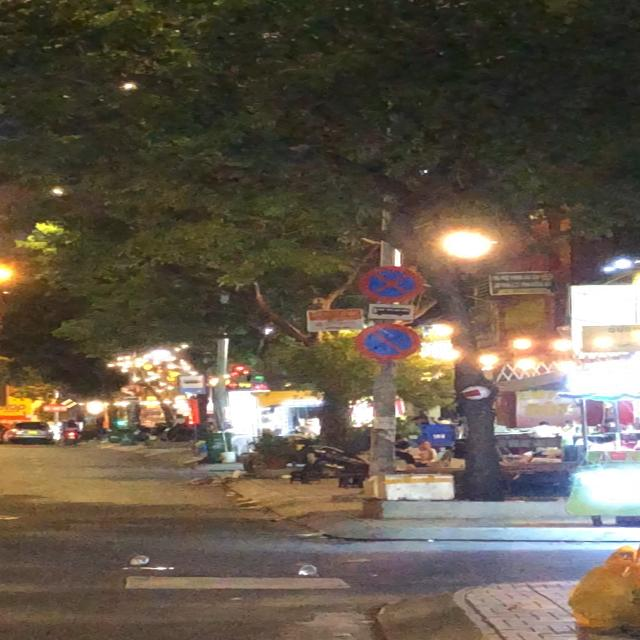Bien bao cam do xe: (354, 324, 416, 364)
Bien bao cam dung xe va do xe: (356, 264, 426, 303)
